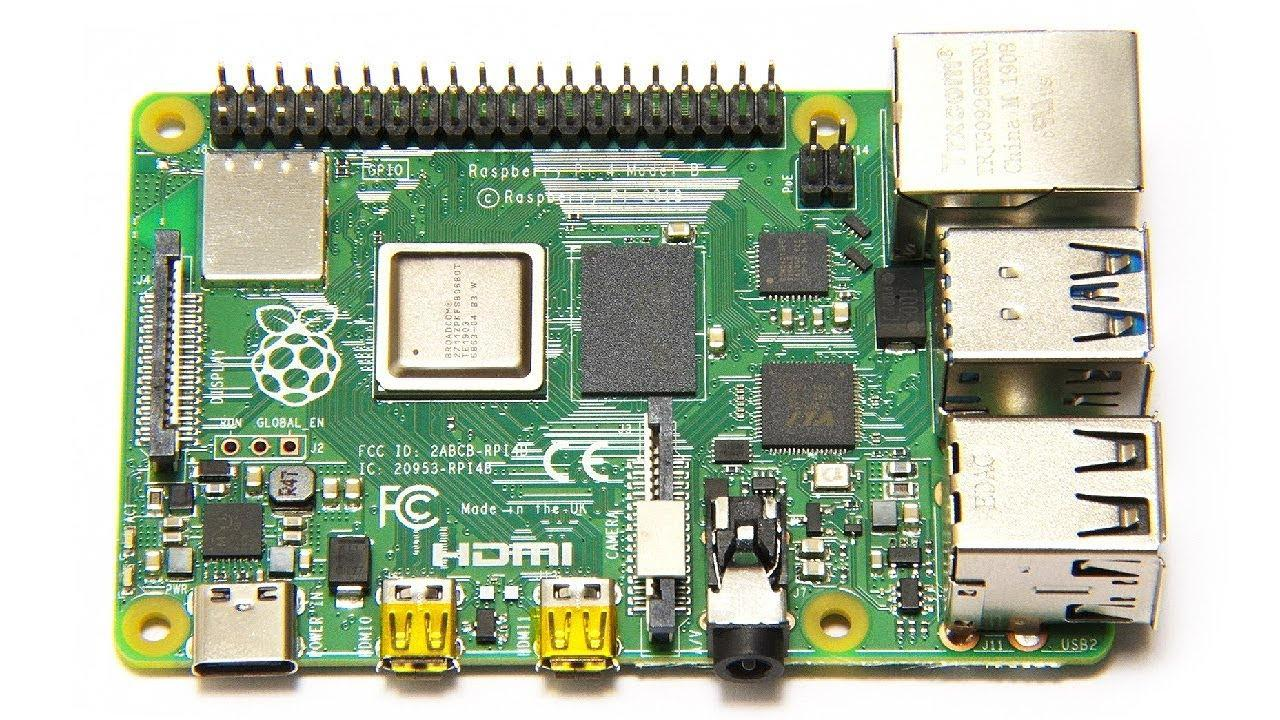audiojack: (704, 474, 797, 682)
bchi: (374, 240, 552, 404)
ethernet: (885, 26, 1152, 258)
gpio: (212, 58, 788, 144)
usb: (944, 412, 1164, 634), (935, 229, 1153, 406)
